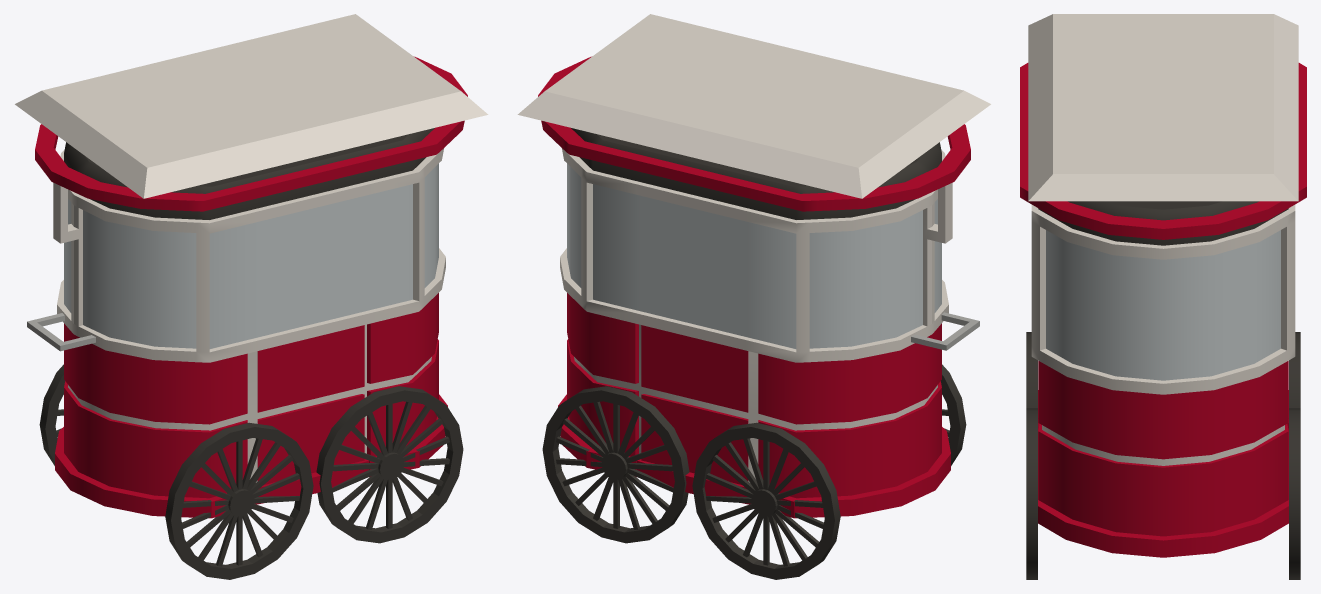
File: fbx_hotdog_stall.fbx
The picture shows the model from 3 angles, left to right: view 1: azimuth 30°, elevation 25°; view 2: azimuth 150°, elevation 25°; view 3: azimuth 270°, elevation 25°; orthographic projection. The views are drawn at different scales.
Parts seen in each view (by area): view 1: fbx_hotdog_stall; view 2: fbx_hotdog_stall; view 3: fbx_hotdog_stall.
Part boxes in pixels (box(x1,y1,x2,y2)): fbx_hotdog_stall: box(15, 14, 488, 579); fbx_hotdog_stall: box(517, 14, 990, 579); fbx_hotdog_stall: box(1020, 14, 1306, 579).
Size of the model in its own units: 2.45 by 2.4 by 1.42.
1 material, 1 textured.
